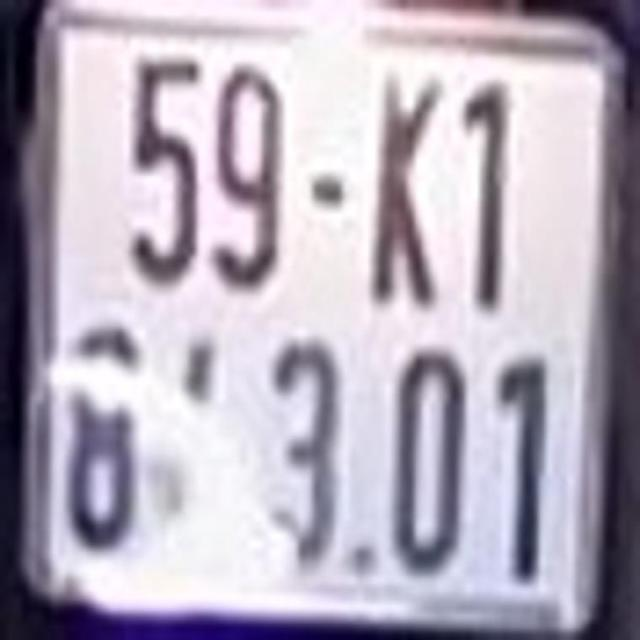0: (390, 344, 466, 575)
1: (493, 352, 552, 584), (459, 74, 513, 311)
3: (264, 333, 340, 565)
5: (129, 53, 201, 283)
8: (64, 320, 141, 552)
9: (212, 61, 283, 290)
K: (372, 69, 446, 308)
